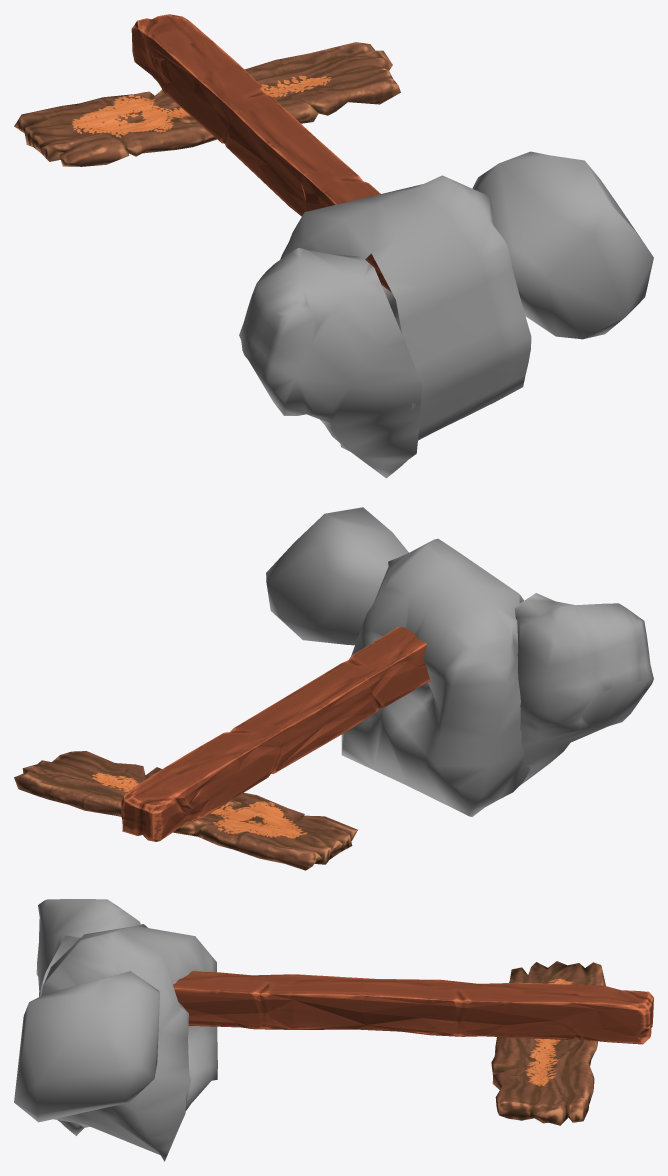
File: placareal.dae
3 views of the same model, one above another, from view 1: azimuth 30°, elevation 25°; view 2: azimuth 150°, elevation 25°; view 3: azimuth 270°, elevation 25° (orthographic). The views are drawn at different scales.
Parts seen in each view (by area): view 1: pedra, pedra2, pedra1_hp, tora_lp, wood_lp; view 2: pedra, tora_lp, pedra2, wood_lp, pedra1_hp; view 3: tora_lp, pedra1_hp, pedra, wood_lp, pedra2.
Boxes of the visible parts, x1=… form: pedra: x1=280, y1=175, x2=531, y2=451; pedra2: x1=239, y1=248, x2=422, y2=478; pedra1_hp: x1=472, y1=151, x2=653, y2=339; tora_lp: x1=131, y1=14, x2=391, y2=292; wood_lp: x1=14, y1=42, x2=400, y2=166; pedra: x1=341, y1=538, x2=529, y2=816; tora_lp: x1=121, y1=627, x2=430, y2=841; pedra2: x1=514, y1=593, x2=653, y2=785; wood_lp: x1=14, y1=751, x2=357, y2=870; pedra1_hp: x1=266, y1=507, x2=408, y2=645; tora_lp: x1=173, y1=970, x2=653, y2=1044; pedra1_hp: x1=14, y1=971, x2=159, y2=1122; pedra: x1=41, y1=924, x2=217, y2=1161; wood_lp: x1=491, y1=961, x2=605, y2=1125; pedra2: x1=36, y1=899, x2=140, y2=1135.
Size of the model in its own units: 1.89 by 2.87 by 1.17.
Materials: 3 (2 with a texture image).
